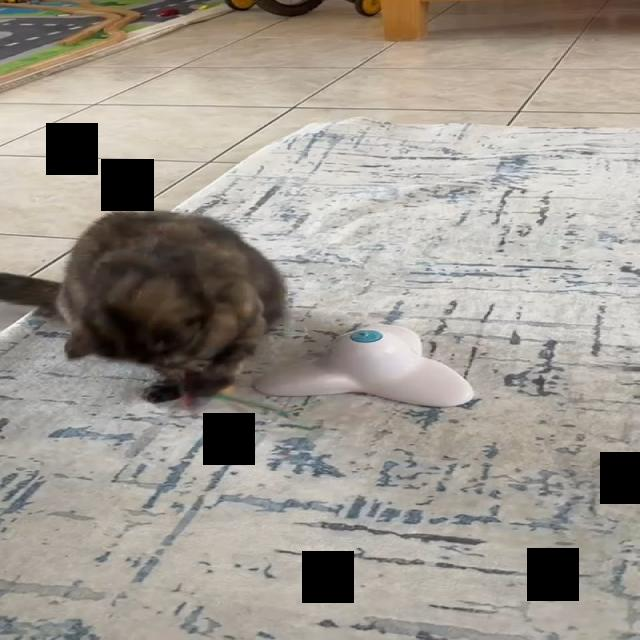authorized: (0, 208, 288, 408)
